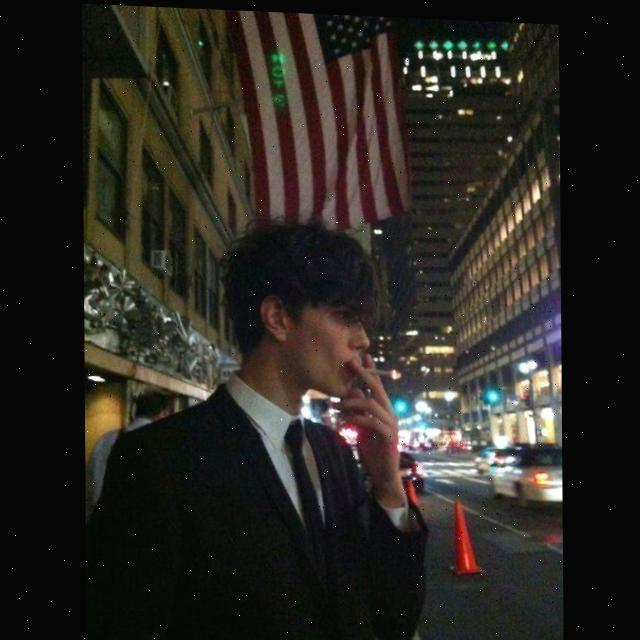cigarette: (362, 365, 401, 376)
